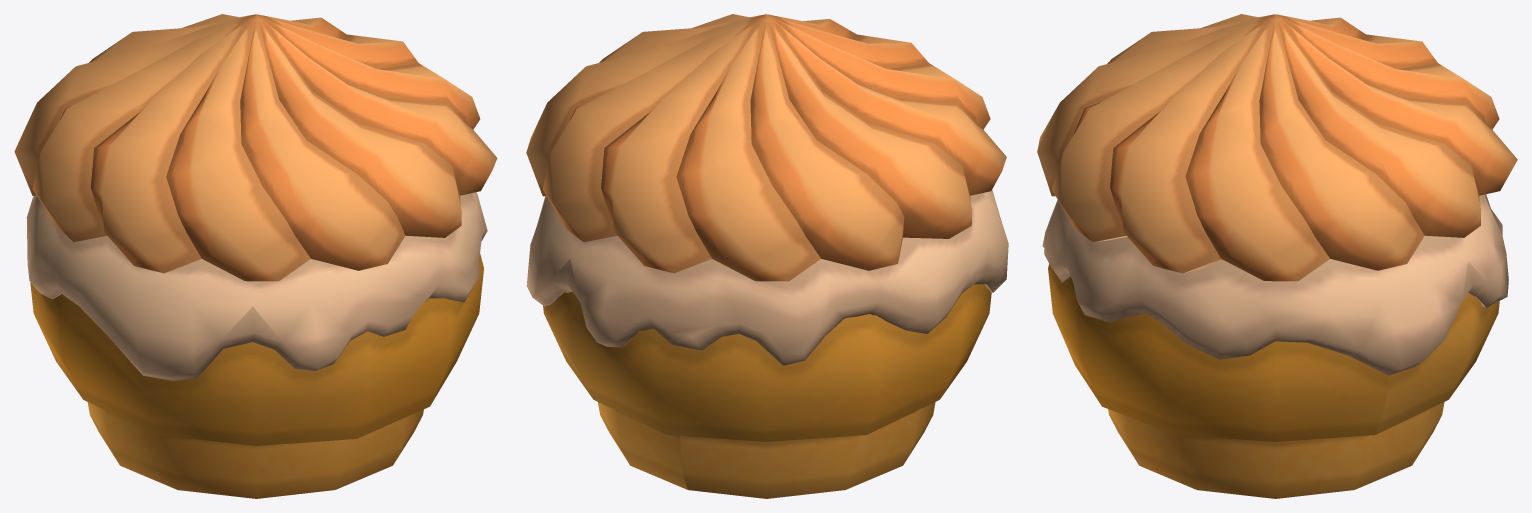
Rendered from Poke_Puff.fbx.
3 views of the same model, side by side, from view 1: azimuth 30°, elevation 25°; view 2: azimuth 150°, elevation 25°; view 3: azimuth 270°, elevation 25° (orthographic).
Parts seen in each view (by area): view 1: Poke_Puff; view 2: Poke_Puff; view 3: Poke_Puff.
Part boxes in pixels (x1,y1,x2,y2): Poke_Puff: (14, 14, 497, 498); Poke_Puff: (526, 14, 1008, 498); Poke_Puff: (1037, 14, 1517, 498).
Bounding box in the file's own units: 110 × 105 × 109.
1 material, 1 textured.
